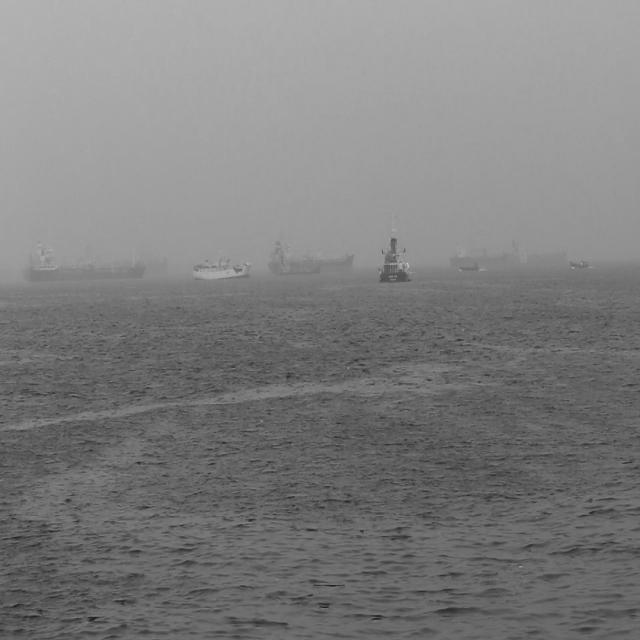ship: (25, 238, 146, 279), (268, 240, 354, 276), (382, 212, 412, 284), (193, 253, 254, 280), (448, 246, 516, 263), (570, 259, 590, 271), (458, 263, 480, 273)
